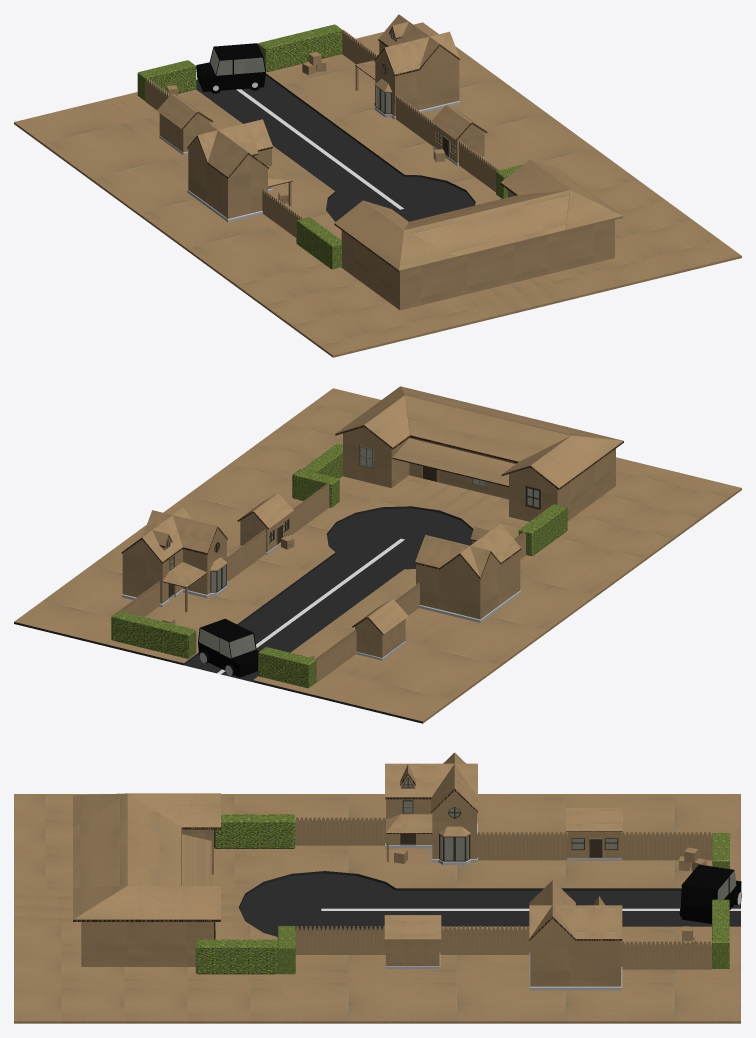
File: delivery environment 2.glb
3 views of the same model, one above another, from view 1: azimuth 30°, elevation 25°; view 2: azimuth 150°, elevation 25°; view 3: azimuth 270°, elevation 25° (orthographic). The views are drawn at different scales.
Visible parts, largest first — view 1: Plane, Plane.002, Plane.001, Cube.001, Cube.002, Cube.023, Cube.012, Cube.004, Cube.026, Cube.003, Cube.013, Cube (+3 smaller); view 2: Plane, Plane.002, Plane.001, Cube.001, Cube.002, Cube.023, Cube.012, Cube.026, Cube.004, Cube.013, Cube.003, Cube.024 (+5 smaller); view 3: Plane, Plane.002, Plane.001, Cube.001, Cube.002, Cube.004, Cube.026, Cube.022, Cube.003, Cube.007, Cube.023, Cube.006 (+7 smaller).
Boxes of the visible parts, x1,y1,x2,y2 form: Plane: (14,22,741,357); Plane.002: (334,160,622,310); Plane.001: (196,75,475,221); Cube.001: (187,119,292,222); Cube.002: (355,14,459,119); Cube.023: (196,43,265,93); Cube.012: (258,24,342,71); Cube.004: (431,104,487,165); Cube.026: (157,93,213,155); Cube.003: (296,217,341,269); Cube.013: (137,60,196,101); Cube: (395,94,433,146); Plane: (14,388,741,723); Plane.002: (335,386,623,521); Plane.001: (184,508,472,681); Cube.001: (415,523,521,622); Cube.002: (121,508,227,612); Cube.023: (198,618,259,677); Cube.012: (111,611,196,658); Cube.026: (352,599,408,660); Cube.004: (237,493,293,554); Cube.013: (258,647,316,688); Cube.003: (518,504,567,556); Cube.024: (292,469,339,507); Plane: (14,794,740,1023); Plane.002: (73,793,220,966); Plane.001: (239,873,740,936); Cube.001: (385,752,477,864); Cube.002: (529,880,622,990); Cube.004: (384,915,441,968); Cube.026: (566,807,622,860); Cube.022: (195,939,277,974); Cube.003: (214,814,295,848); Cube.007: (477,831,567,860); Cube.023: (679,864,741,923); Cube.006: (621,941,711,969).
Size of the model in its own units: 60.14 by 9.44 by 81.44.
Materials: 16 (10 with a texture image).
